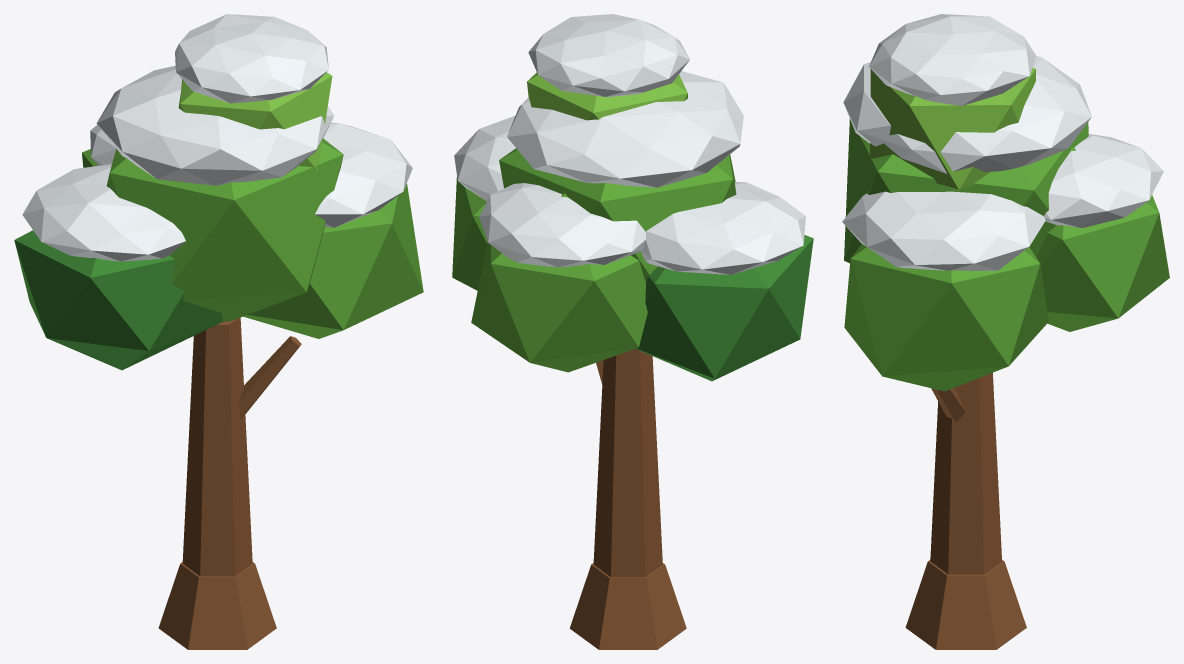
File: small_tree_snow.glb
3 views of the same model, side by side, from view 1: azimuth 30°, elevation 25°; view 2: azimuth 150°, elevation 25°; view 3: azimuth 270°, elevation 25° (orthographic). The views are drawn at different scales.
Visible parts, largest first — view 1: part_crown, small_tree_snow; view 2: part_crown, small_tree_snow; view 3: part_crown, small_tree_snow.
Boxes of the visible parts, x1=… form: part_crown: x1=14, y1=14, x2=423, y2=370; small_tree_snow: x1=158, y1=317, x2=301, y2=649; part_crown: x1=452, y1=14, x2=813, y2=381; small_tree_snow: x1=569, y1=349, x2=686, y2=649; part_crown: x1=842, y1=14, x2=1169, y2=391; small_tree_snow: x1=905, y1=372, x2=1026, y2=649.
Bounding box in the file's own units: 1.62 × 2.57 × 1.26.
